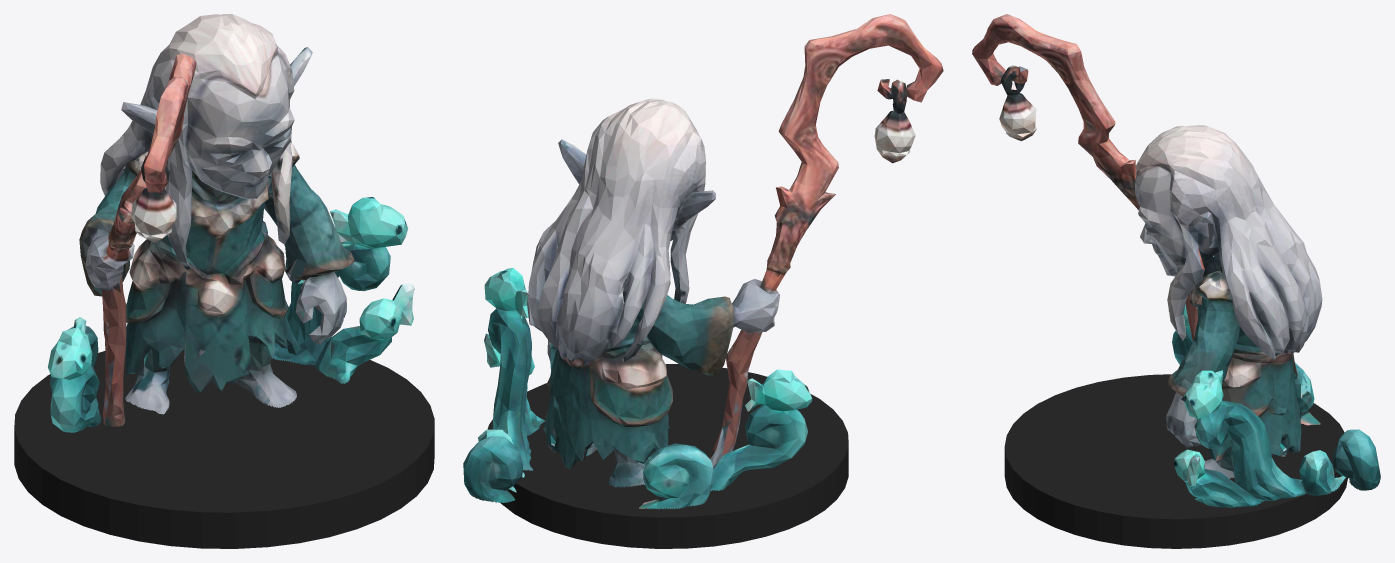
File: idk-isharann-soulscryer.glb
3 views of the same model, side by side, from view 1: azimuth 30°, elevation 25°; view 2: azimuth 150°, elevation 25°; view 3: azimuth 270°, elevation 25° (orthographic). The views are drawn at different scales.
Parts seen in each view (by area): view 1: figure, base; view 2: figure, base; view 3: figure, base.
Boxes of the visible parts, x1,y1,x2,y2 form: figure: [48, 14, 414, 432]; base: [14, 349, 434, 548]; figure: [463, 14, 943, 509]; base: [487, 364, 848, 548]; figure: [972, 14, 1380, 507]; base: [1004, 374, 1347, 548].
Bounding box in the file's own units: 1.38 × 1.62 × 1.5.
Materials: 2 (1 with a texture image).
